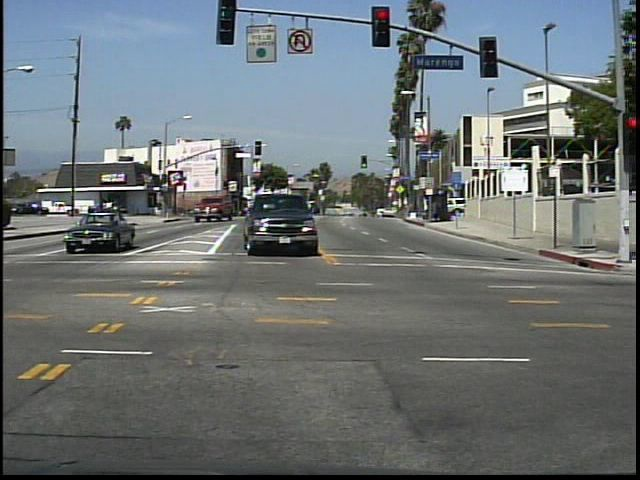person: (94, 196, 110, 224)
